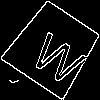W: (27, 23, 93, 88)
